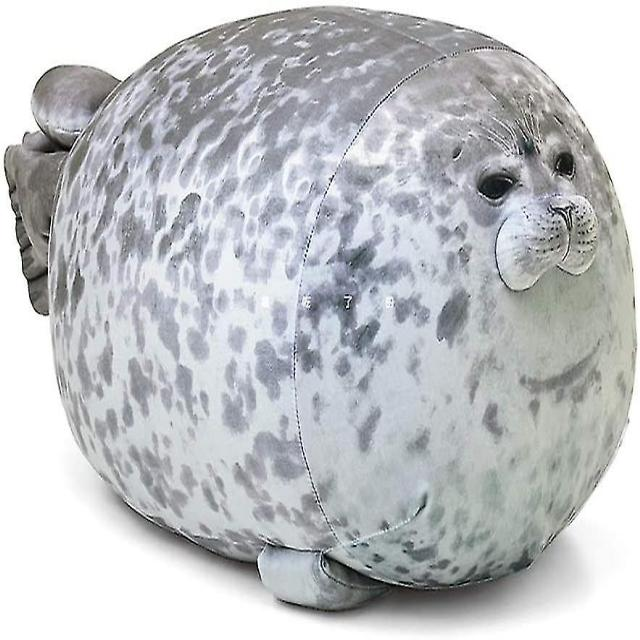WaterDog: (17, 9, 631, 610)
